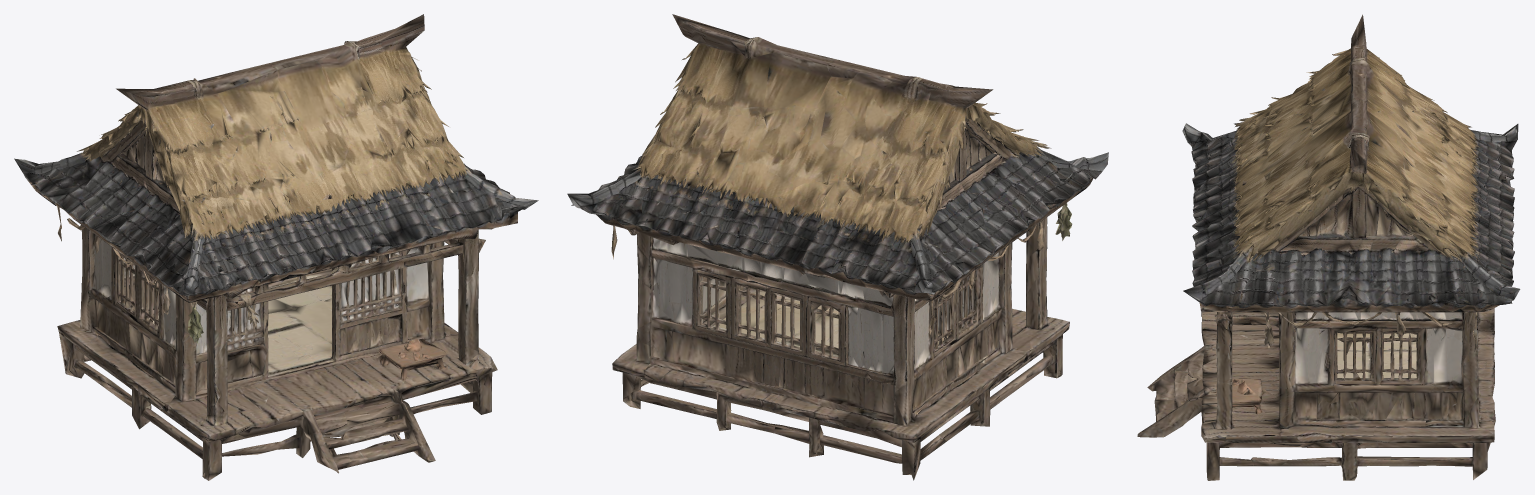
File: casa.glb
3 renders of one model, left to right at view 1: azimuth 30°, elevation 25°; view 2: azimuth 150°, elevation 25°; view 3: azimuth 270°, elevation 25°, orthographic. The views are drawn at different scales.
Parts seen in each view (by area): view 1: casa; view 2: casa; view 3: casa.
Boxes of the visible parts, bbox=[...] form: casa: bbox=[14, 14, 538, 480]; casa: bbox=[567, 14, 1108, 480]; casa: bbox=[1137, 14, 1520, 480].
Bounding box in the file's own units: 1.9 × 1.73 × 1.84.
1 material, 1 textured.
